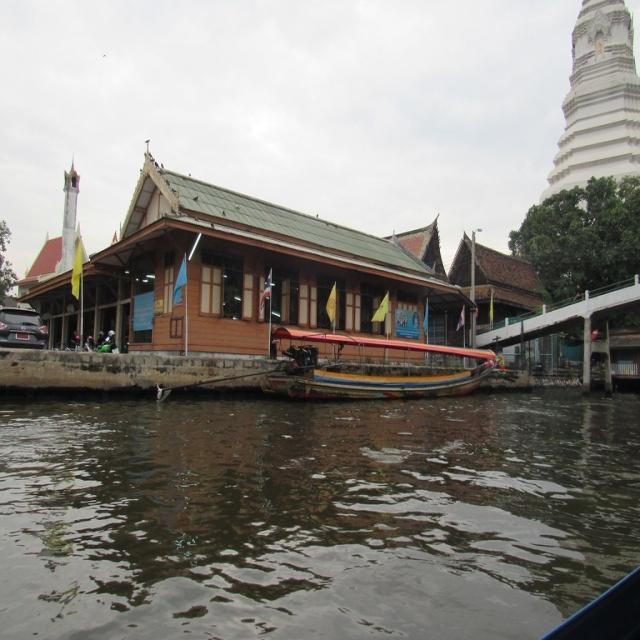boat: (279, 358, 507, 405)
